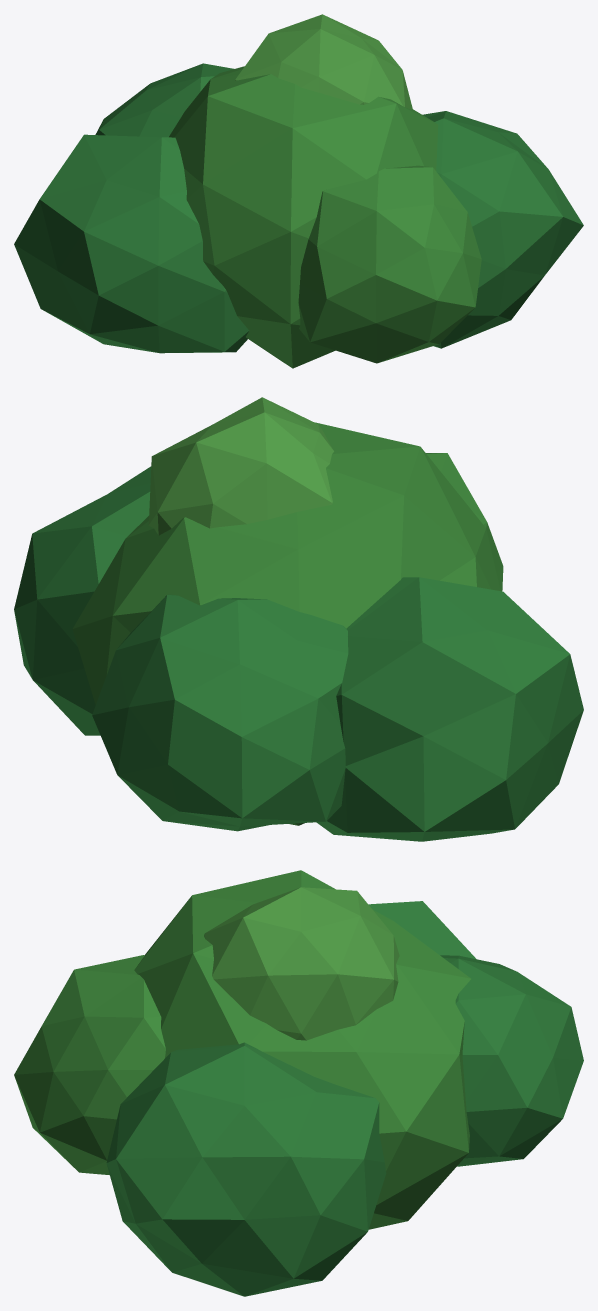
File: arbusto.glb
The picture shows the model from 3 angles, top to bottom: view 1: azimuth 30°, elevation 25°; view 2: azimuth 150°, elevation 25°; view 3: azimuth 270°, elevation 25°; orthographic projection. The views are drawn at different scales.
Visible parts, largest first — view 1: Folhas; view 2: Folhas; view 3: Folhas.
Boxes of the visible parts, x1,y1,x2,y2 form: Folhas: (14, 14, 583, 368); Folhas: (14, 397, 583, 841); Folhas: (14, 870, 583, 1296).
Size of the model in its own units: 1.85 by 1.22 by 1.81.
